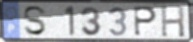1: (64, 5, 76, 38)
3: (79, 5, 102, 37), (107, 6, 128, 37)
H: (160, 5, 186, 39)
P: (133, 6, 158, 38)
S: (22, 5, 48, 37)
